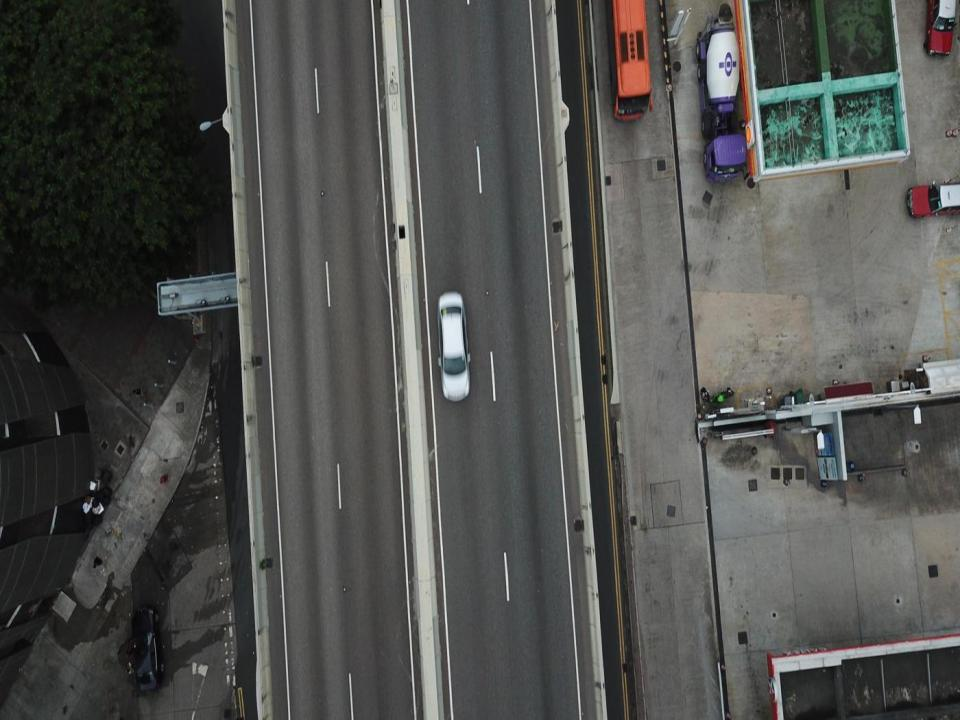bus: (611, 0, 654, 130)
car: (435, 291, 474, 403), (126, 602, 164, 694), (902, 177, 960, 222), (921, 0, 960, 57)
truck: (692, 14, 749, 181)
